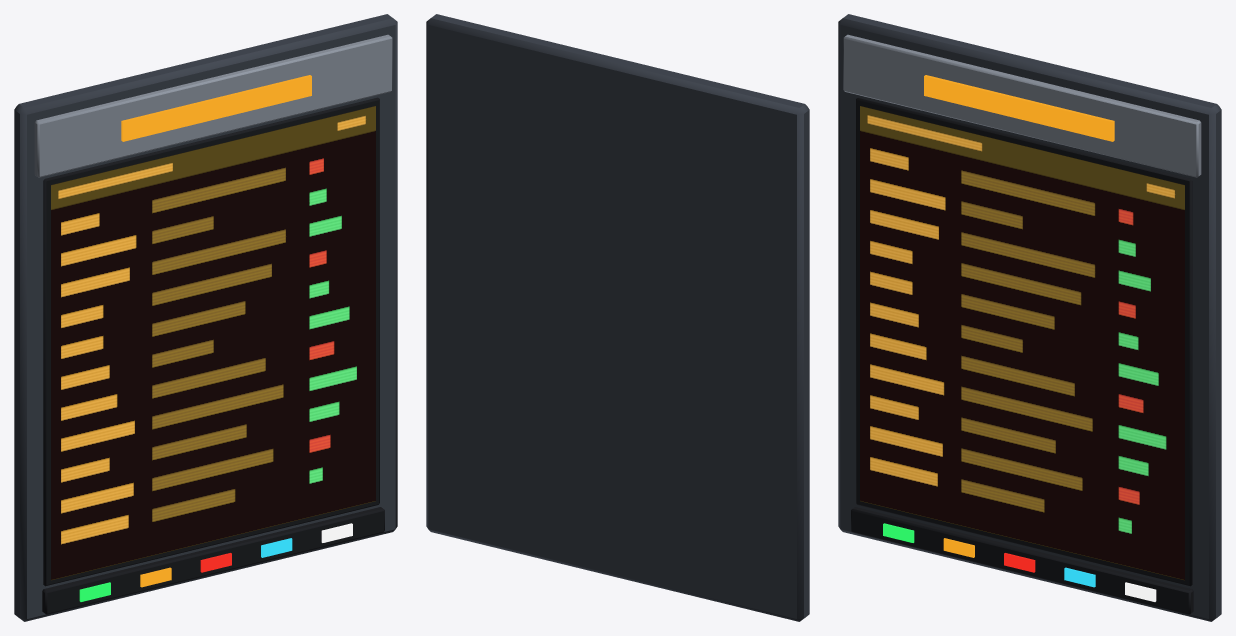
File: noticeboard_duty_roster_display.glb
3 views of the same model, side by side, from view 1: azimuth 30°, elevation 25°; view 2: azimuth 150°, elevation 25°; view 3: azimuth 330°, elevation 25° (orthographic).
Visible parts, largest first — view 1: noticeboard_duty_roster_display; view 2: noticeboard_duty_roster_display; view 3: noticeboard_duty_roster_display.
Boxes of the visible parts, box(x1,y1,x2,y2) form: noticeboard_duty_roster_display: box(14, 14, 397, 621); noticeboard_duty_roster_display: box(426, 14, 809, 621); noticeboard_duty_roster_display: box(838, 14, 1221, 621).
Size of the model in its own units: 1 by 1.3 by 0.078.
Materials: 9 (1 with a texture image).
